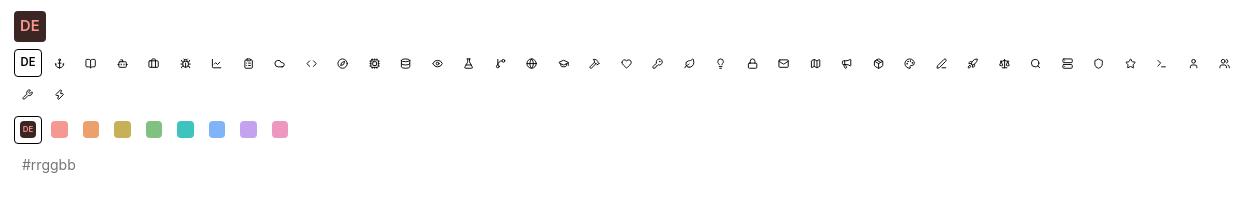
Scenario: picking a persona's icon and colour, in its view › says the core's refusal when a pick is not written, and reads nothing again
Click the radio button named "shield": coordinates (1099, 63) x1=1085 y1=49 x2=1113 y2=77
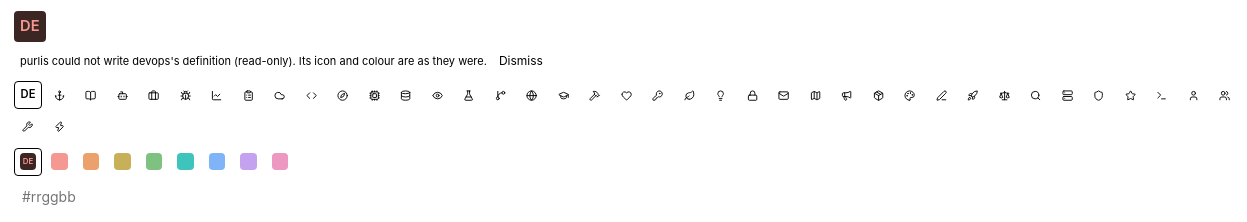
Now the text "purlis could not write devops's definition (read-only). Its icon and colour are as they were." is shown, box x1=20 y1=54 x2=487 y2=68
